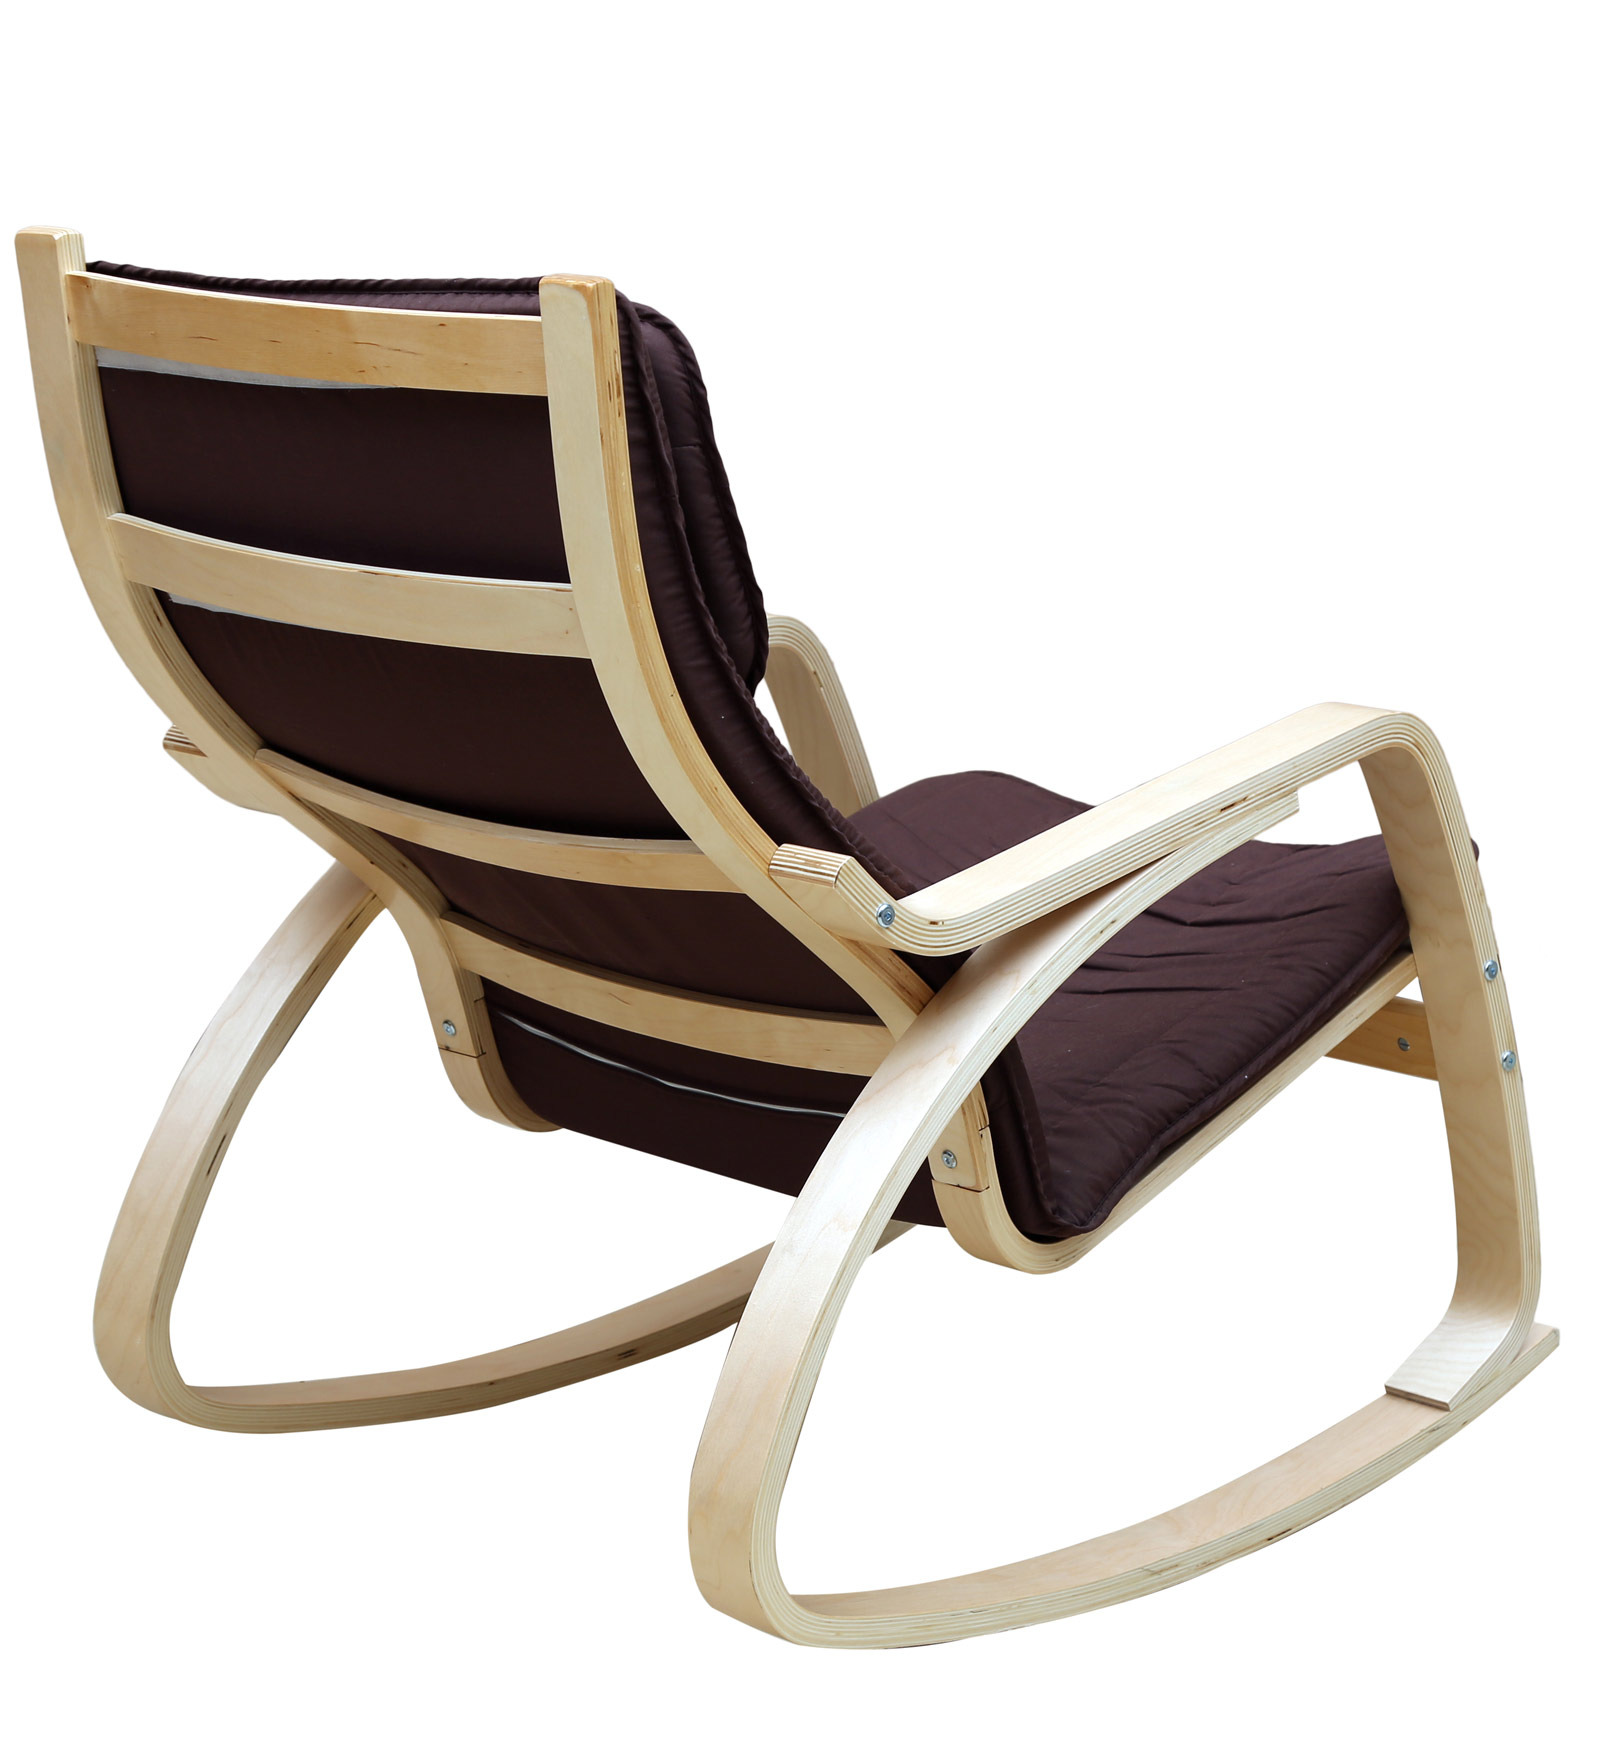Vita Rocking Chair with Brown Cushion by HomeTown: (9, 189, 1572, 1666)
